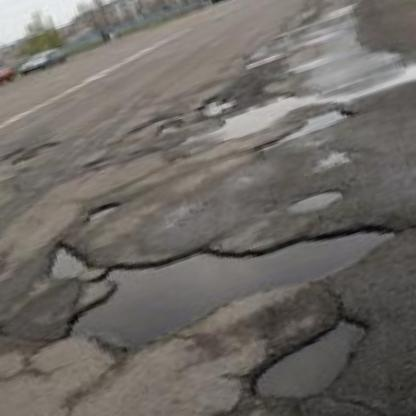pothole: (50, 173, 412, 376), (238, 310, 383, 415), (250, 101, 359, 158), (8, 138, 59, 167), (199, 89, 238, 120), (86, 198, 122, 221), (151, 116, 185, 139)
